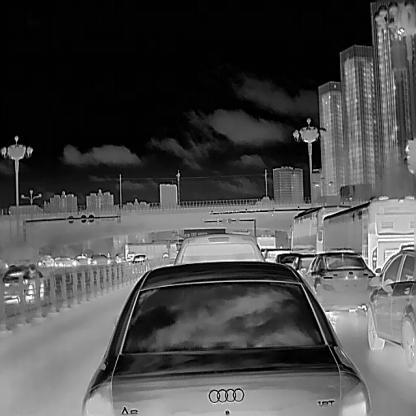car: (79, 259, 371, 416), (316, 193, 416, 279), (366, 246, 416, 372), (304, 250, 377, 319), (287, 203, 354, 254), (174, 232, 266, 266), (0, 263, 44, 303), (124, 238, 178, 263), (289, 251, 321, 277), (259, 245, 295, 265), (274, 251, 304, 268), (255, 234, 276, 255), (131, 253, 150, 273), (54, 255, 81, 267), (73, 254, 92, 266), (91, 253, 111, 264)
